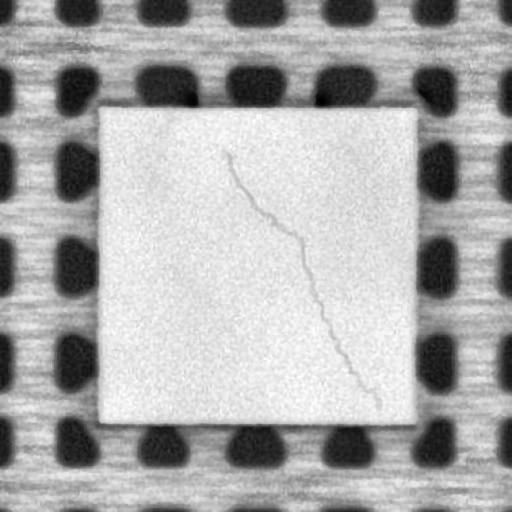DIE_CRACK: (223, 150, 378, 404)
